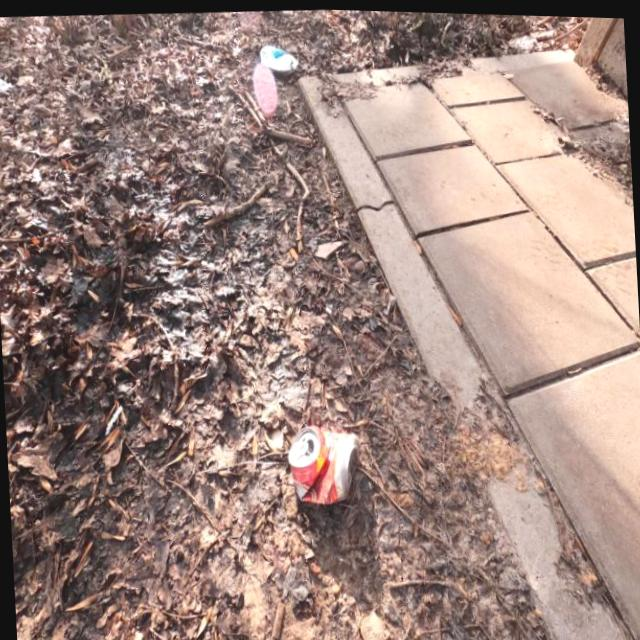Can-Metal: (280, 410, 368, 514), (257, 29, 296, 83)
